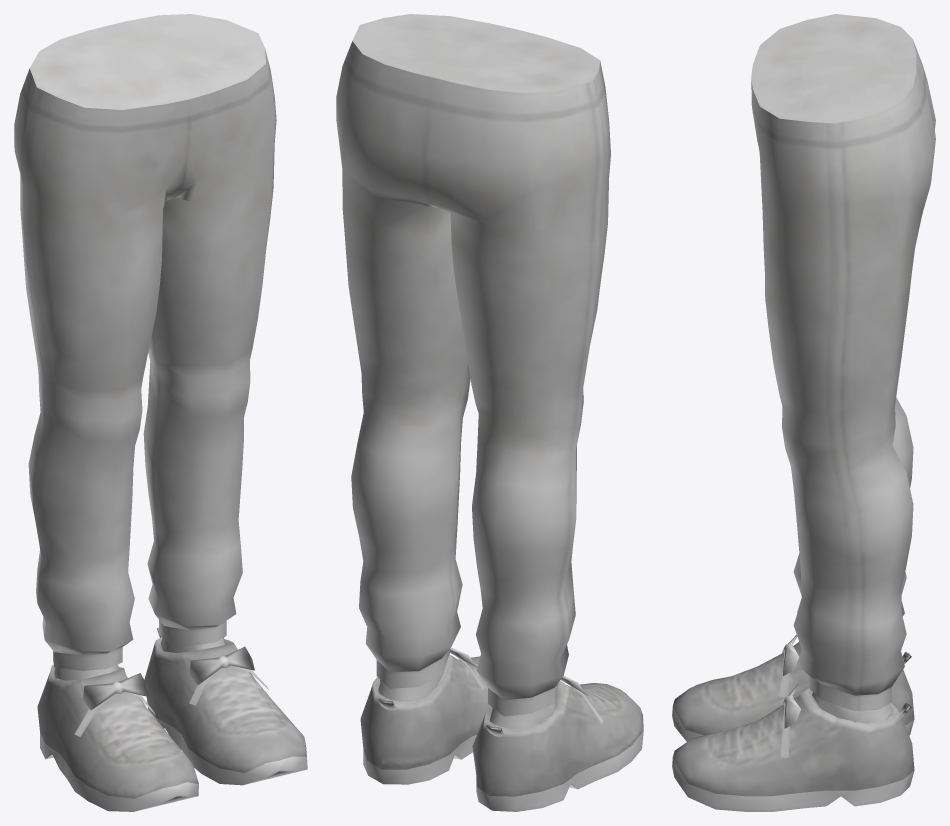
The model's file is tr0760_00_lwb02.gltf.
3 renders of one model, left to right at view 1: azimuth 30°, elevation 25°; view 2: azimuth 150°, elevation 25°; view 3: azimuth 270°, elevation 25°, orthographic. The views are drawn at different scales.
Parts seen in each view (by area): view 1: lwb02_lowerbody_mesh_shape:lowerbody02, lwb02_shoes_mesh_shape:lowerbody02; view 2: lwb02_lowerbody_mesh_shape:lowerbody02, lwb02_shoes_mesh_shape:lowerbody02; view 3: lwb02_lowerbody_mesh_shape:lowerbody02, lwb02_shoes_mesh_shape:lowerbody02.
Part boxes in pixels (box(x1,y1,x2,y2)): lwb02_lowerbody_mesh_shape:lowerbody02: box(14, 14, 276, 680); lwb02_shoes_mesh_shape:lowerbody02: box(37, 627, 307, 811); lwb02_lowerbody_mesh_shape:lowerbody02: box(336, 14, 610, 728); lwb02_shoes_mesh_shape:lowerbody02: box(360, 647, 643, 811); lwb02_lowerbody_mesh_shape:lowerbody02: box(751, 14, 935, 723); lwb02_shoes_mesh_shape:lowerbody02: box(672, 635, 914, 811).
Size of what is drawn, in the model's own units: 0.349 by 0.9321 by 0.3197.
Materials: 1 (1 with a texture image).
